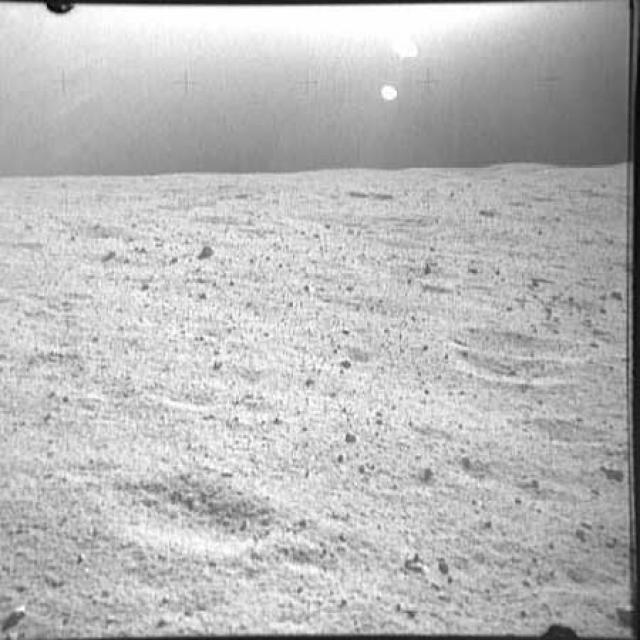crater: (94, 468, 274, 560), (446, 314, 592, 360), (436, 350, 572, 392)
rock: (3, 588, 33, 626), (400, 547, 435, 577), (594, 460, 627, 487), (188, 238, 224, 261), (413, 255, 442, 278), (456, 448, 484, 469), (614, 600, 636, 626), (602, 280, 625, 304), (132, 273, 158, 292), (338, 427, 362, 447), (329, 354, 354, 373), (206, 354, 226, 374), (102, 244, 120, 264), (416, 467, 440, 480)
